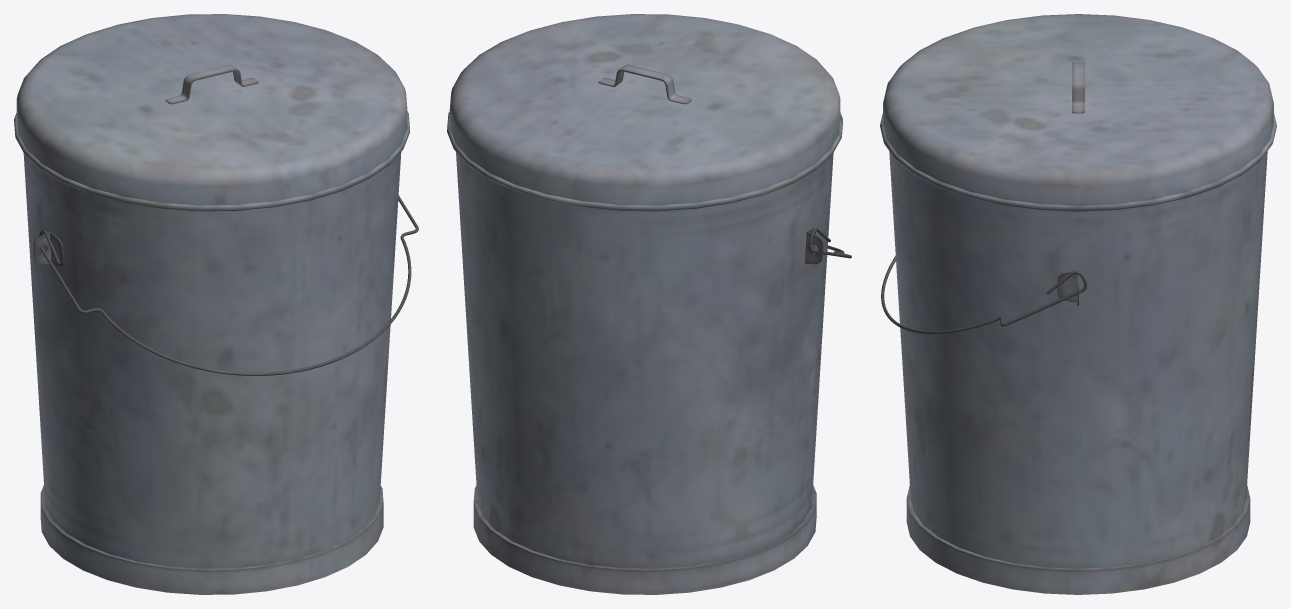
File: SM_Dustbin_04.FBX
The picture shows the model from 3 angles, left to right: view 1: azimuth 30°, elevation 25°; view 2: azimuth 150°, elevation 25°; view 3: azimuth 270°, elevation 25°; orthographic projection.
Visible parts, largest first — view 1: SM_Dustbin_04_LOD0; view 2: SM_Dustbin_04_LOD0; view 3: SM_Dustbin_04_LOD0.
Boxes of the visible parts, <box> form: SM_Dustbin_04_LOD0: <box>14,14,418,594</box>; SM_Dustbin_04_LOD0: <box>447,14,851,594</box>; SM_Dustbin_04_LOD0: <box>880,14,1276,594</box>.
Size of what is drawn, in the model's own units: 63.79 by 61.54 by 77.07.
